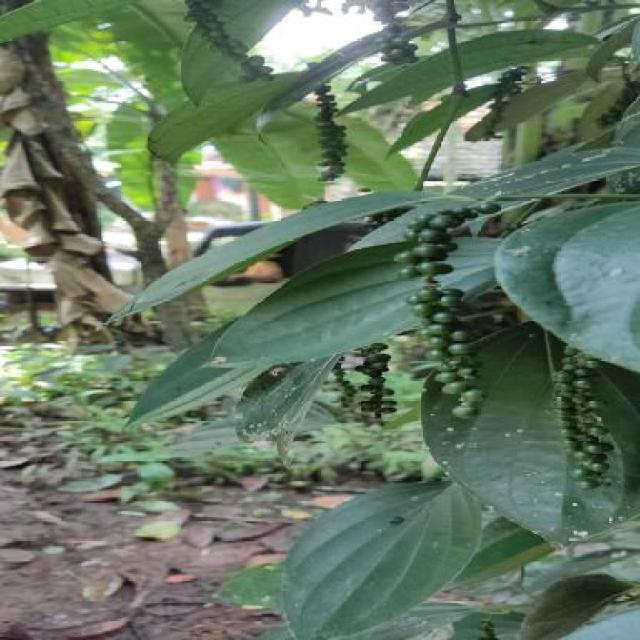UNRIPE: (395, 201, 483, 414), (551, 346, 611, 489), (181, 2, 277, 83), (311, 85, 351, 180), (479, 68, 530, 140), (352, 342, 397, 420), (365, 2, 420, 65), (591, 79, 638, 128), (328, 360, 355, 414)
